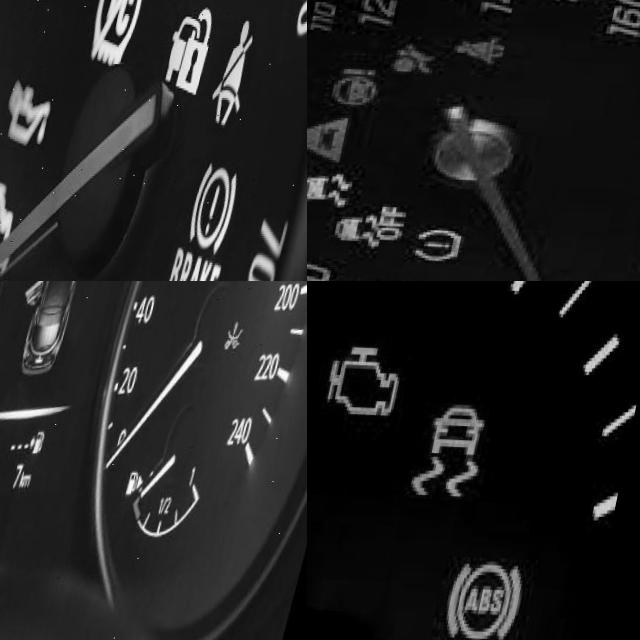Electronic Power Steering: (338, 63, 394, 106)
Seat Belt: (218, 16, 264, 122), (460, 32, 517, 62)
